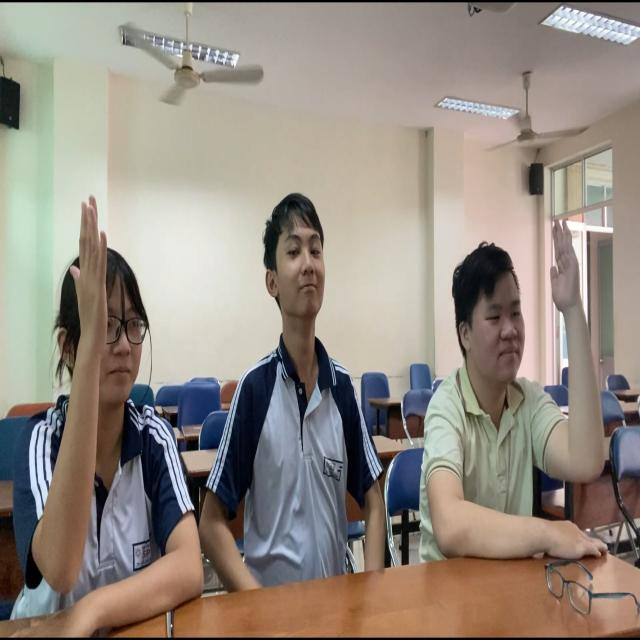raise_hand: (1, 131, 213, 640), (430, 208, 640, 579)
